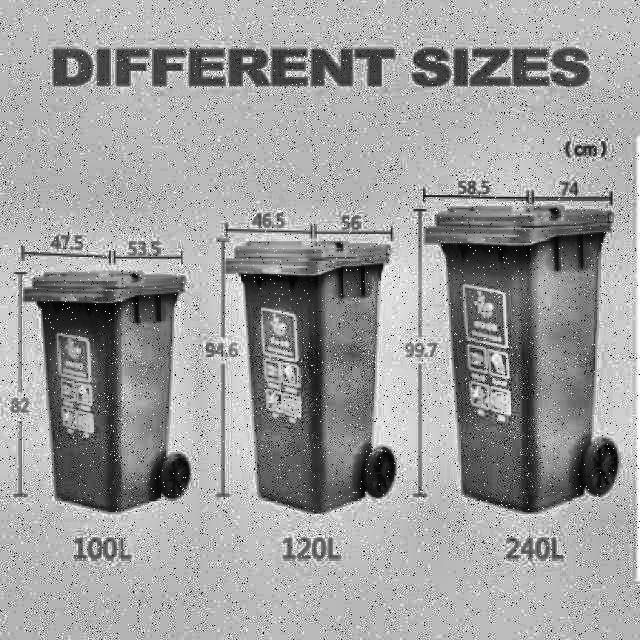Dustbin: (422, 205, 626, 524)
